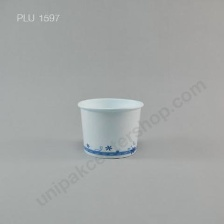paper_cup: (72, 93, 148, 162)
